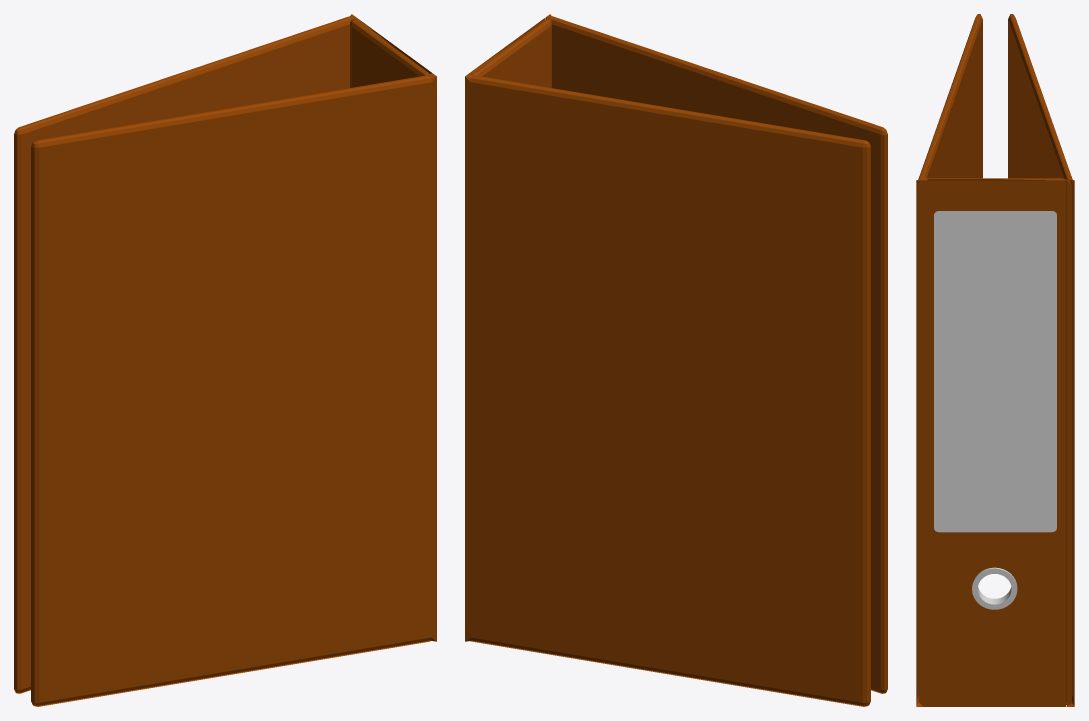
Rendered from Folder.fbx.
3 renders of one model, left to right at view 1: azimuth 30°, elevation 25°; view 2: azimuth 150°, elevation 25°; view 3: azimuth 270°, elevation 25°, orthographic. The views are drawn at different scales.
Parts seen in each view (by area): view 1: Folder_raw; view 2: Folder_raw; view 3: Folder_raw, Label, Ring.001.
Part boxes in pixels (bbox=[...]): Folder_raw: bbox=[14, 14, 436, 706]; Folder_raw: bbox=[465, 14, 887, 706]; Folder_raw: bbox=[916, 14, 1074, 706]; Label: bbox=[934, 211, 1056, 532]; Ring.001: bbox=[972, 567, 1017, 609].
Bounding box in the file's own units: 22.8 × 33.01 × 9.
